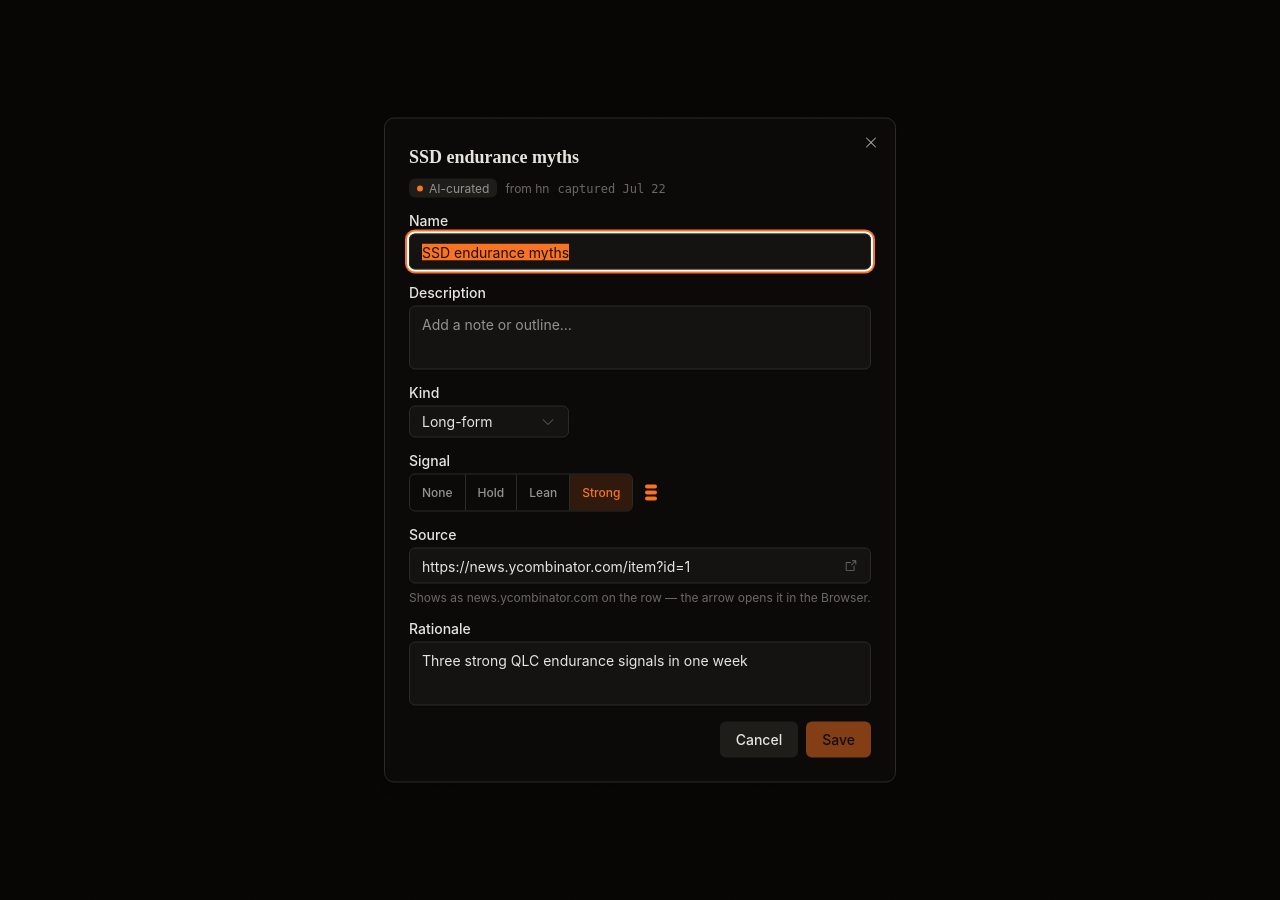
Test: IdeaDetailModal › loads the idea and disables Save until a field changes
Expected: the button "Save" is disabled, [806,722,871,758]
In the field labelled "Name": [640, 252] box [409,234,871,270], type "!"
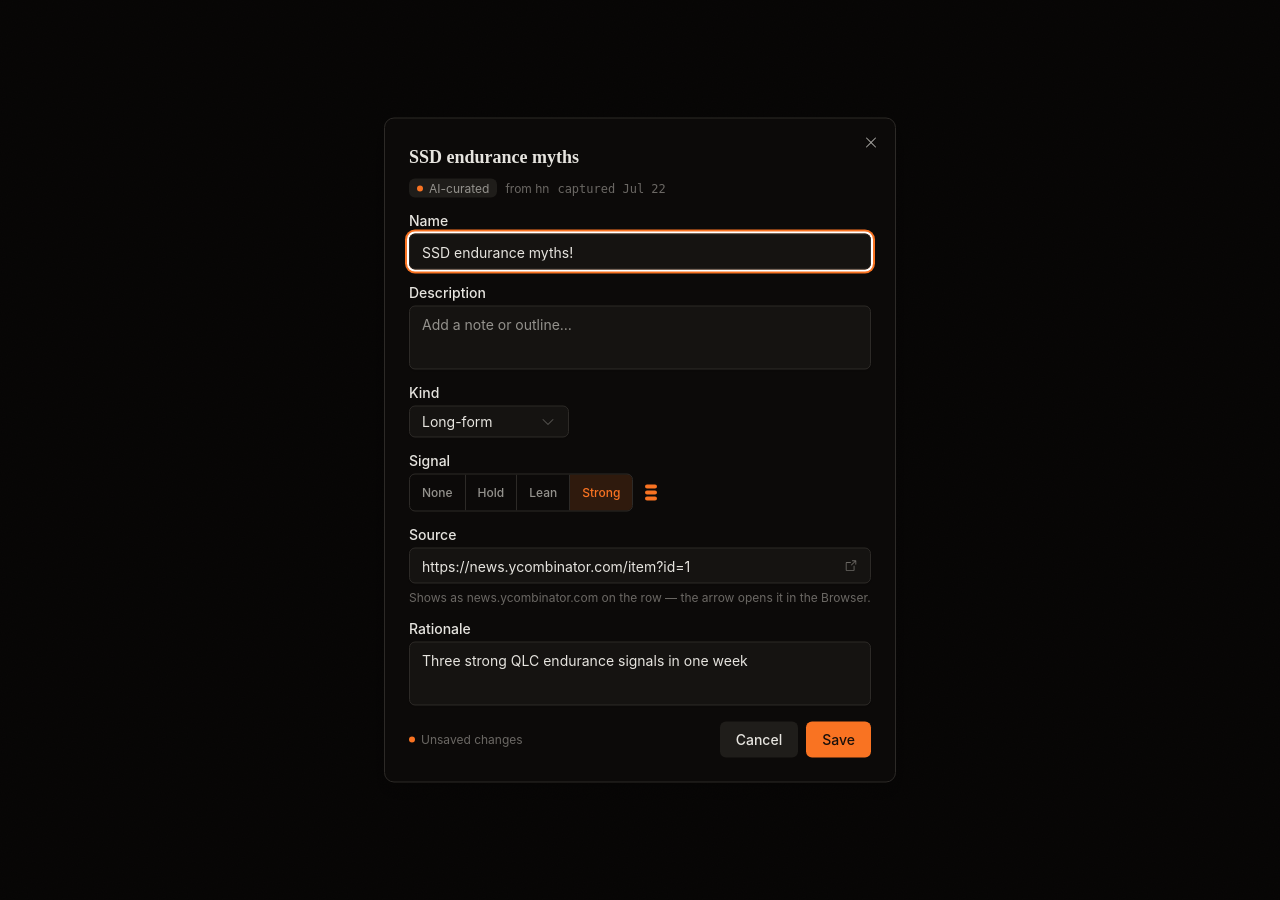
Expected: the button "Save" is enabled, [806,722,871,758]
